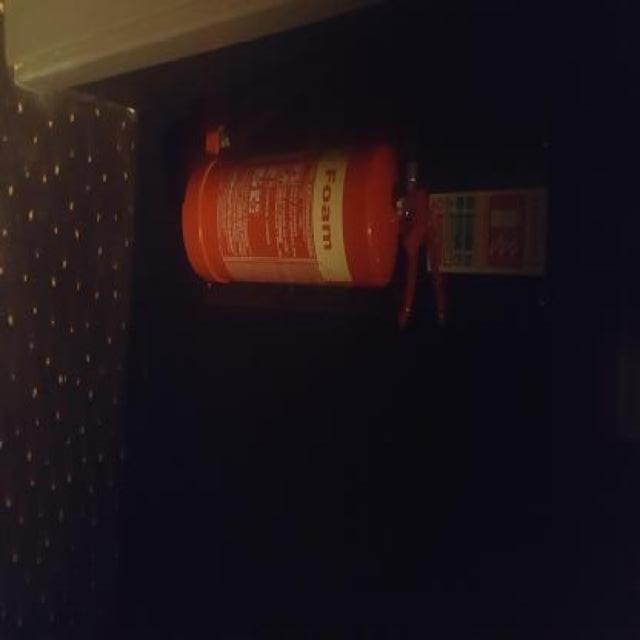fire extinguisher: (181, 122, 447, 324)
